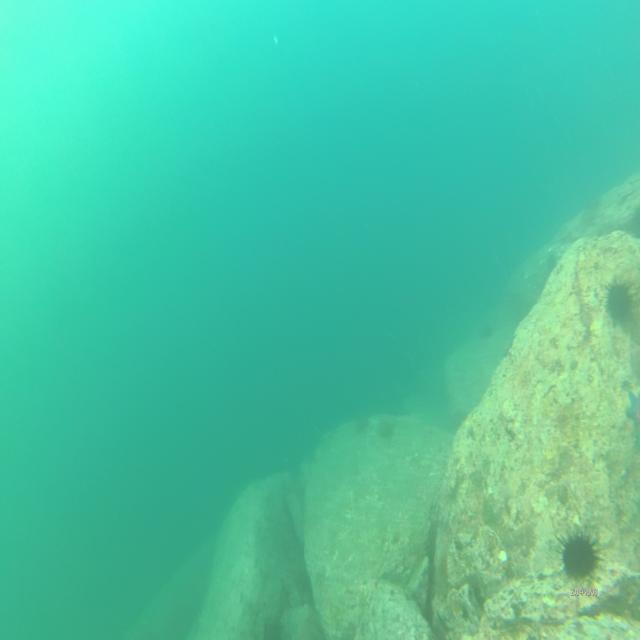echinus: (556, 527, 600, 585), (604, 278, 635, 324)
